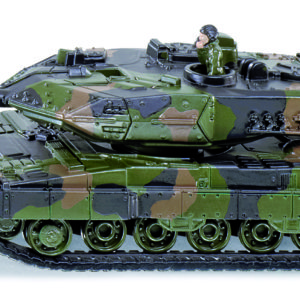Battle Tank: (1, 35, 300, 266)
